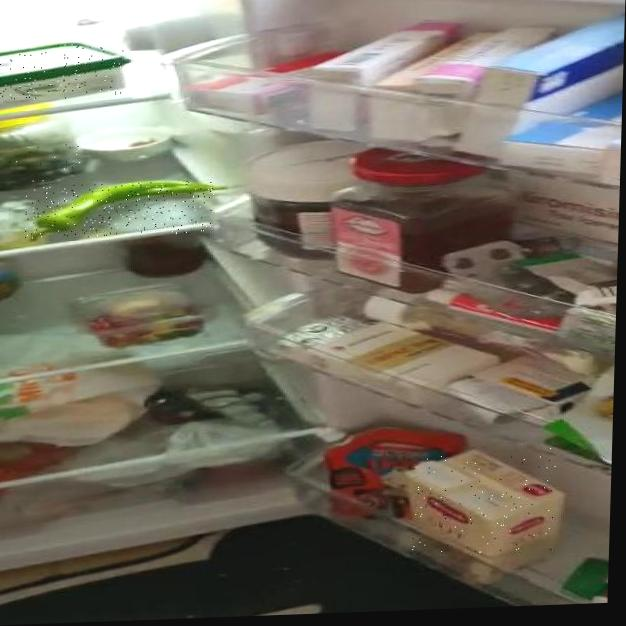cream cheese: (0, 42, 124, 101)
green chilies: (25, 180, 214, 240)
milk: (411, 448, 556, 556)
olives: (0, 144, 83, 186)
